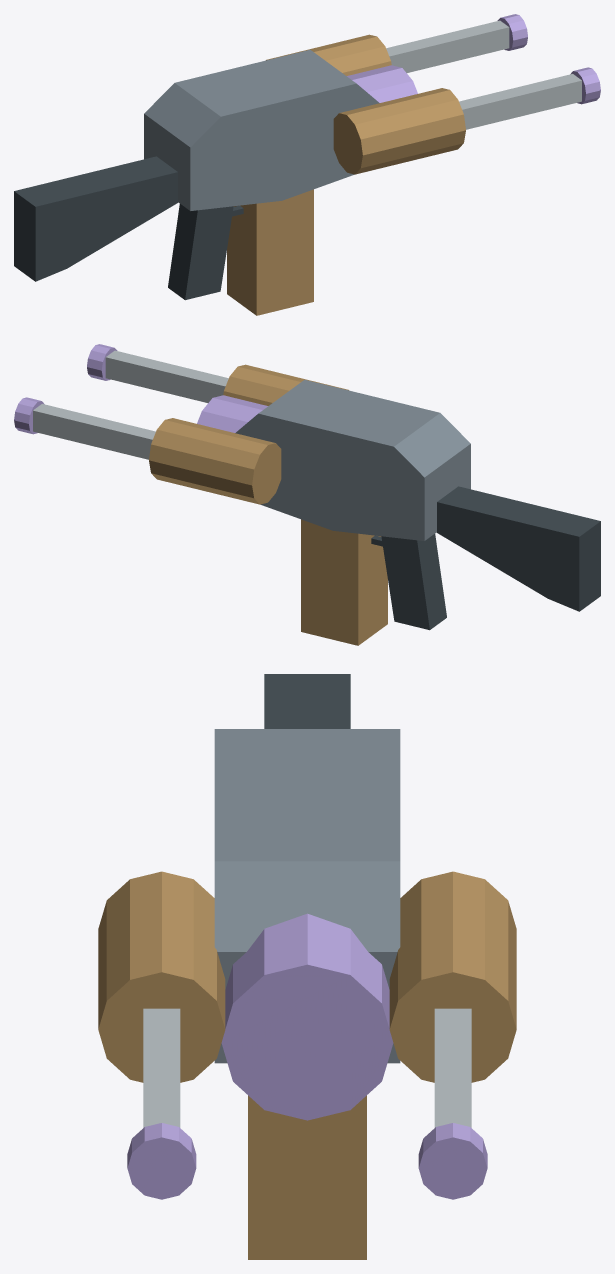
The model's file is w15-storm-rosary-static.glb.
3 renders of one model, top to bottom at view 1: azimuth 30°, elevation 25°; view 2: azimuth 150°, elevation 25°; view 3: azimuth 270°, elevation 25°, orthographic. The views are drawn at different scales.
Parts seen in each view (by area): view 1: w15-storm-rosary__receiver.001, w15-storm-rosary__stock.001, w15-storm-rosary__power_cell.001, w15-storm-rosary__coil_0.001, w15-storm-rosary__grip.001, w15-storm-rosary__prong_0.001, w15-storm-rosary__prong_1.001, w15-storm-rosary__coil_1.001, w15-storm-rosary__central_emitter.001, w15-storm-rosary__electrode_tip_1.001, w15-storm-rosary__electrode_tip_0.001; view 2: w15-storm-rosary__receiver.001, w15-storm-rosary__stock.001, w15-storm-rosary__power_cell.001, w15-storm-rosary__coil_1.001, w15-storm-rosary__grip.001, w15-storm-rosary__prong_1.001, w15-storm-rosary__prong_0.001, w15-storm-rosary__coil_0.001, w15-storm-rosary__central_emitter.001, w15-storm-rosary__electrode_tip_0.001, w15-storm-rosary__electrode_tip_1.001; view 3: w15-storm-rosary__receiver.001, w15-storm-rosary__central_emitter.001, w15-storm-rosary__coil_0.001, w15-storm-rosary__coil_1.001, w15-storm-rosary__power_cell.001, w15-storm-rosary__stock.001, w15-storm-rosary__prong_0.001, w15-storm-rosary__prong_1.001, w15-storm-rosary__electrode_tip_0.001, w15-storm-rosary__electrode_tip_1.001.
Part boxes in pixels (box(x1,y1,x2,y2)): w15-storm-rosary__receiver.001: box(144, 49, 379, 210); w15-storm-rosary__stock.001: box(14, 156, 178, 281); w15-storm-rosary__power_cell.001: box(227, 189, 313, 315); w15-storm-rosary__coil_0.001: box(333, 88, 465, 174); w15-storm-rosary__grip.001: box(168, 203, 233, 300); w15-storm-rosary__prong_0.001: box(459, 74, 581, 129); w15-storm-rosary__prong_1.001: box(386, 20, 509, 72); w15-storm-rosary__coil_1.001: box(266, 34, 391, 75); w15-storm-rosary__central_emitter.001: box(347, 65, 417, 102); w15-storm-rosary__electrode_tip_1.001: box(497, 14, 527, 50); w15-storm-rosary__electrode_tip_0.001: box(570, 67, 600, 104); w15-storm-rosary__receiver.001: box(235, 379, 470, 540); w15-storm-rosary__stock.001: box(436, 486, 600, 611); w15-storm-rosary__power_cell.001: box(301, 519, 387, 645); w15-storm-rosary__coil_1.001: box(149, 418, 281, 504); w15-storm-rosary__grip.001: box(381, 533, 446, 630); w15-storm-rosary__prong_1.001: box(33, 404, 155, 459); w15-storm-rosary__prong_0.001: box(105, 350, 228, 402); w15-storm-rosary__coil_0.001: box(223, 364, 348, 405); w15-storm-rosary__central_emitter.001: box(197, 395, 267, 432); w15-storm-rosary__electrode_tip_0.001: box(87, 344, 117, 380); w15-storm-rosary__electrode_tip_1.001: box(14, 397, 44, 434); w15-storm-rosary__receiver.001: box(214, 729, 400, 1063); w15-storm-rosary__central_emitter.001: box(221, 913, 393, 1120); w15-storm-rosary__coil_0.001: box(98, 871, 225, 1082); w15-storm-rosary__coil_1.001: box(389, 871, 516, 1082); w15-storm-rosary__power_cell.001: box(248, 1095, 366, 1259); w15-storm-rosary__stock.001: box(264, 674, 350, 728); w15-storm-rosary__prong_0.001: box(143, 1008, 180, 1127); w15-storm-rosary__prong_1.001: box(434, 1008, 471, 1127); w15-storm-rosary__electrode_tip_0.001: box(127, 1123, 196, 1199); w15-storm-rosary__electrode_tip_1.001: box(418, 1123, 487, 1199).
Bounding box in the file's own units: 0.9266 × 0.36 × 0.316.
